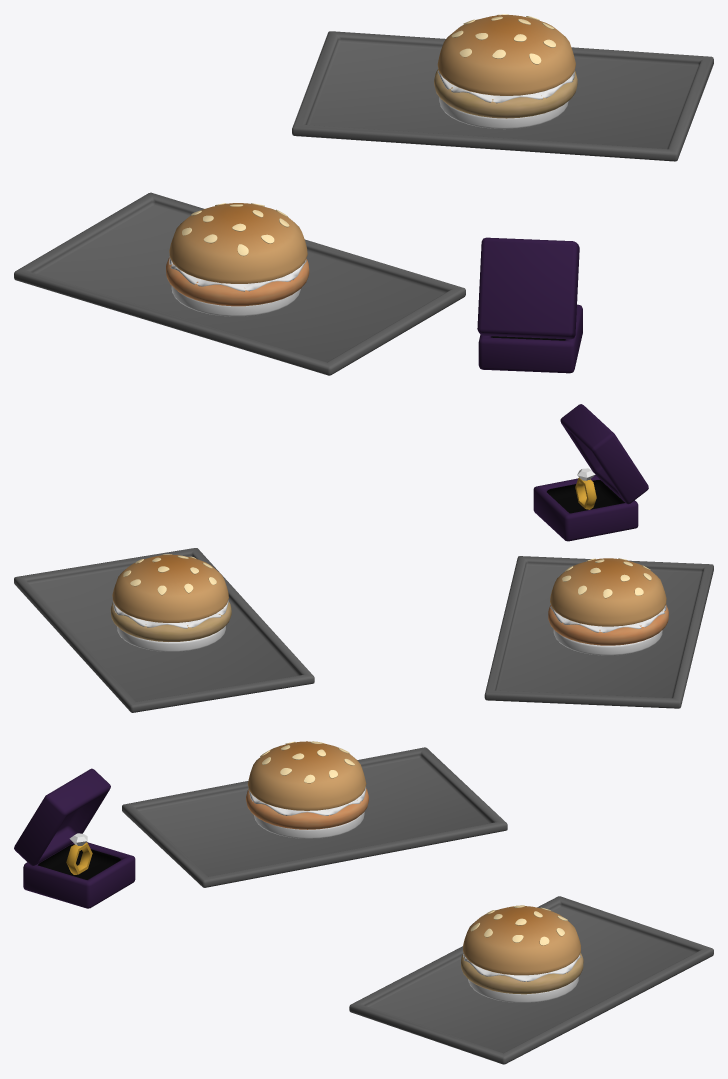
Rendered from purple pink food.fbx.
The picture shows the model from 3 angles, top to bottom: view 1: azimuth 30°, elevation 25°; view 2: azimuth 150°, elevation 25°; view 3: azimuth 270°, elevation 25°; orthographic projection. The views are drawn at different scales.
Parts seen in each view (by area): view 1: tray.001, tray, ring box top, top burger bun w/ sesame.024, top burger bun w/ sesame.025, ring box bottom, chicken patty.013, chicken patty.012, bottom bun.037, bottom bun.036, lettuce.013, lettuce.012; view 2: tray.001, tray, top burger bun w/ sesame.024, top burger bun w/ sesame.025, ring box top, ring box bottom, chicken patty.012, chicken patty.013, inner box cushion, bottom bun.036, bottom bun.037, lettuce.013 (+2 smaller); view 3: tray, tray.001, top burger bun w/ sesame.024, top burger bun w/ sesame.025, ring box top, ring box bottom, chicken patty.013, chicken patty.012, inner box cushion, bottom bun.036, bottom bun.037, lettuce.012 (+2 smaller).
Boxes of the visible parts, x1,y1,x2,y2 form: tray.001: [292, 31, 713, 161]; tray: [14, 192, 465, 375]; ring box top: [477, 237, 579, 339]; top burger bun w/ sesame.024: [169, 203, 307, 283]; top burger bun w/ sesame.025: [437, 14, 575, 95]; ring box bottom: [478, 304, 582, 373]; chicken patty.013: [434, 69, 577, 118]; chicken patty.012: [166, 257, 309, 306]; bottom bun.037: [439, 97, 568, 129]; bottom bun.036: [171, 286, 300, 316]; lettuce.013: [437, 70, 574, 103]; lettuce.012: [169, 257, 306, 291]; tray.001: [14, 548, 314, 712]; tray: [484, 556, 713, 708]; top burger bun w/ sesame.024: [550, 558, 666, 626]; top burger bun w/ sesame.025: [112, 554, 228, 622]; ring box top: [560, 404, 648, 504]; ring box bottom: [533, 475, 638, 541]; chicken patty.012: [548, 604, 668, 645]; chicken patty.013: [110, 601, 231, 641]; inner box cushion: [547, 480, 624, 513]; bottom bun.036: [553, 629, 662, 655]; bottom bun.037: [117, 626, 225, 651]; lettuce.013: [113, 600, 228, 628]; tray: [122, 747, 507, 887]; tray.001: [349, 896, 713, 1064]; top burger bun w/ sesame.024: [247, 741, 366, 810]; top burger bun w/ sesame.025: [463, 905, 580, 975]; ring box top: [14, 768, 110, 865]; ring box bottom: [23, 842, 135, 908]; chicken patty.013: [461, 952, 583, 994]; chicken patty.012: [246, 788, 368, 829]; inner box cushion: [38, 844, 120, 879]; bottom bun.036: [254, 812, 364, 838]; bottom bun.037: [468, 977, 578, 1002]; lettuce.012: [248, 786, 366, 815].
Bounding box in the file's own units: 154 × 23.42 × 146.
